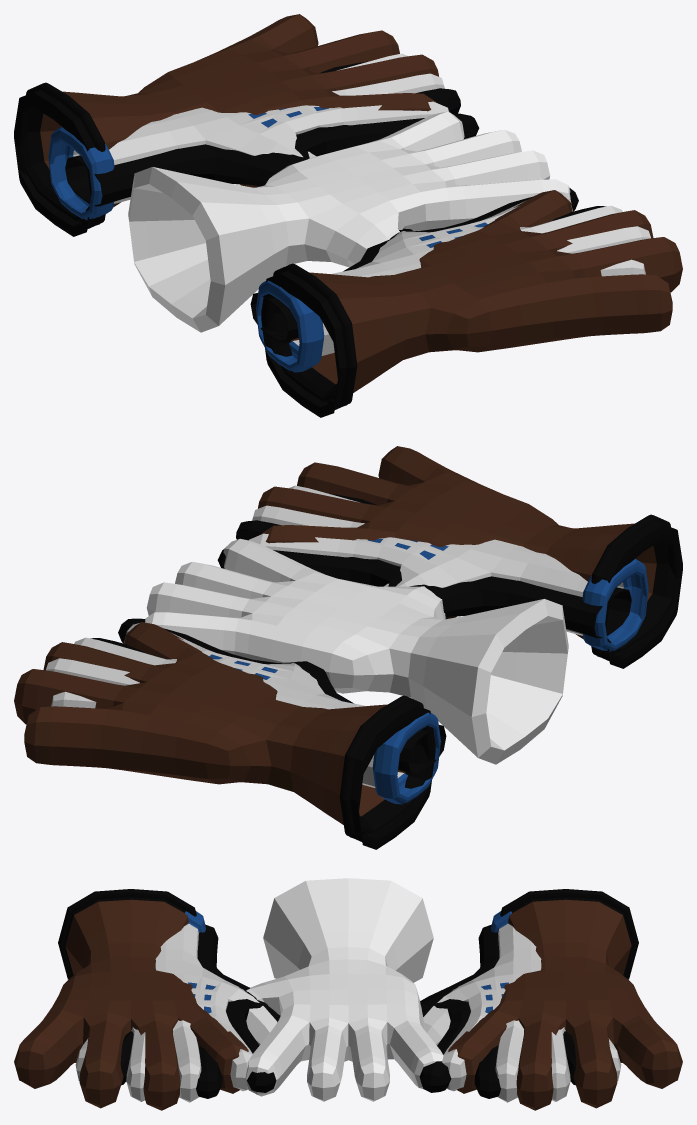
Rendered from Guantes Algodón.fbx.
3 views of the same model, one above another, from view 1: azimuth 30°, elevation 25°; view 2: azimuth 150°, elevation 25°; view 3: azimuth 270°, elevation 25° (orthographic). The views are drawn at different scales.
Visible parts, largest first — view 1: Guante Cuero, Guante Genérico, Guante Algodón, Guante Nitrilo; view 2: Guante Cuero, Guante Genérico, Guante Algodón, Guante Nitrilo; view 3: Guante Cuero, Guante Genérico, Guante Algodón, Guante Nitrilo.
Part boxes in pixels (<box>): Guante Cuero: <box>14,14,682,417</box>; Guante Genérico: <box>128,111,571,332</box>; Guante Algodón: <box>48,53,650,372</box>; Guante Nitrilo: <box>65,61,606,341</box>; Guante Cuero: <box>14,446,682,849</box>; Guante Genérico: <box>145,538,568,764</box>; Guante Algodón: <box>46,485,648,804</box>; Guante Nitrilo: <box>90,493,631,773</box>; Guante Cuero: <box>14,889,682,1110</box>; Guante Genérico: <box>245,878,443,1101</box>; Guante Algodón: <box>75,911,621,1102</box>; Guante Nitrilo: <box>120,924,576,1098</box>.
Bounding box in the file's own units: 24.63 × 8.58 × 43.49.
